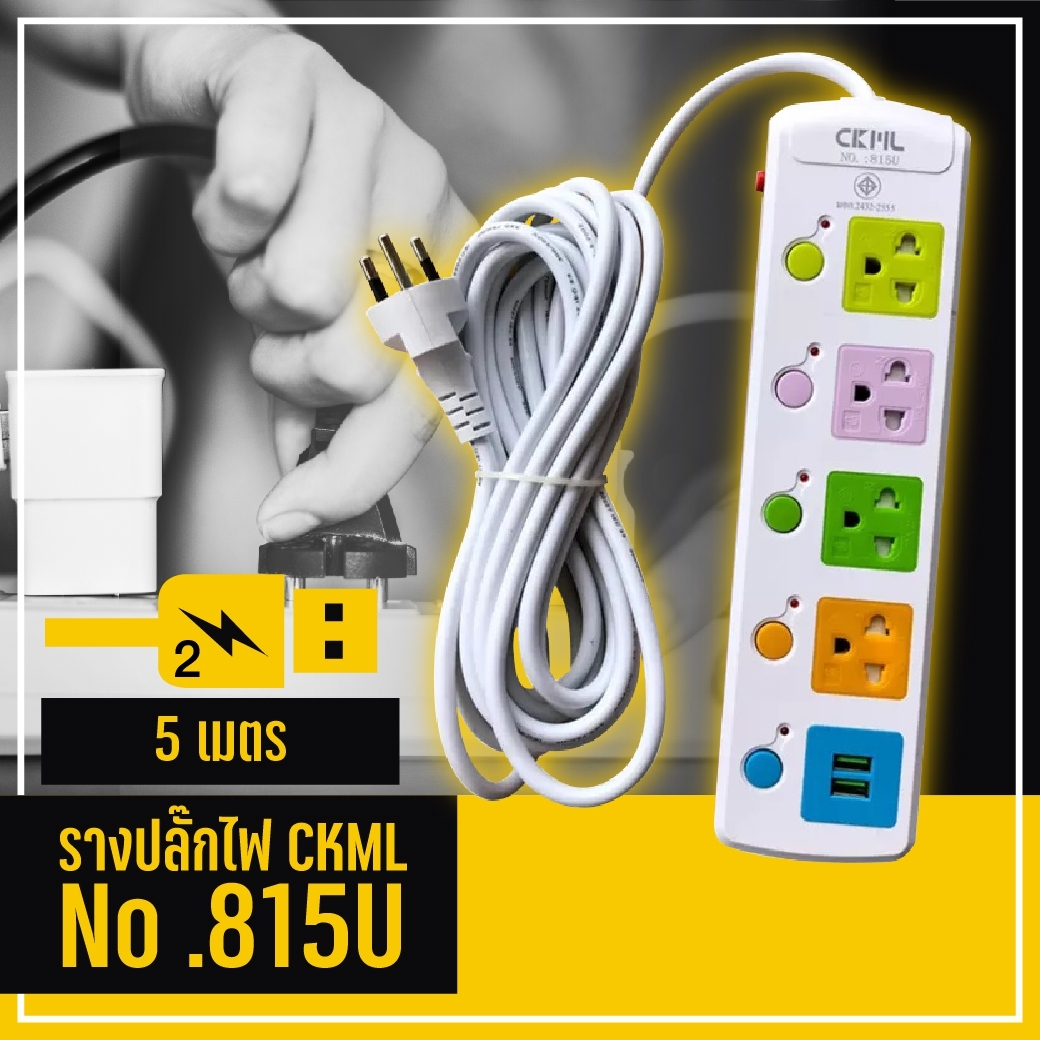Three_eye_plug: (709, 85, 977, 872)
